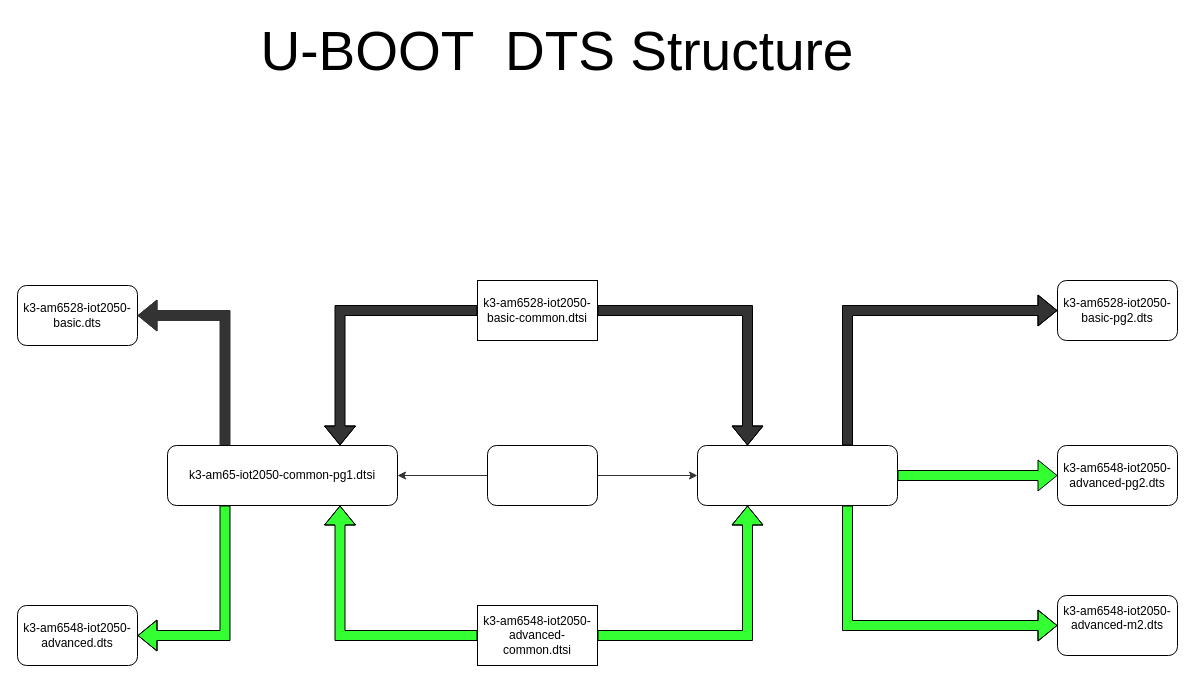
The diagram is 1195 pixels wide and 683 high, and some of its shapes have lost their labels. The box of each missing label's shape, as (x1, y1, x2, y2) in pixels:
k3-am65-iot2050-common-pg2.dtsi: (696, 444, 898, 506)
k3-am65-iot2050-common.dtsi: (486, 444, 598, 506)
